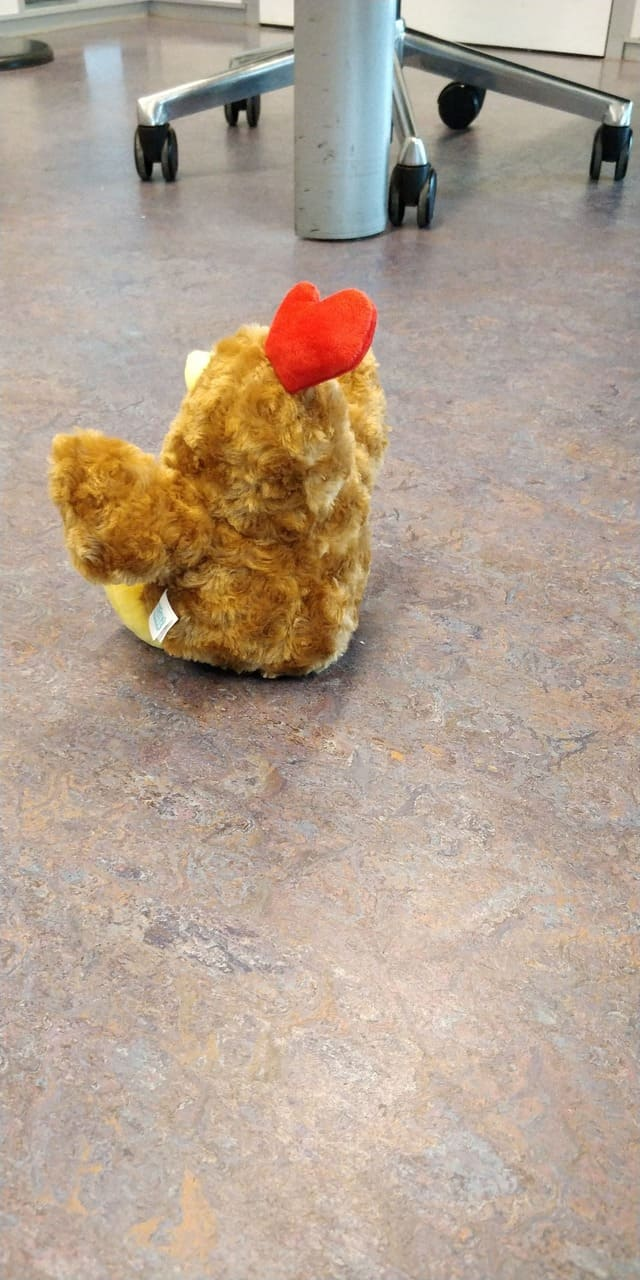fakeChicken: (47, 279, 392, 682)
